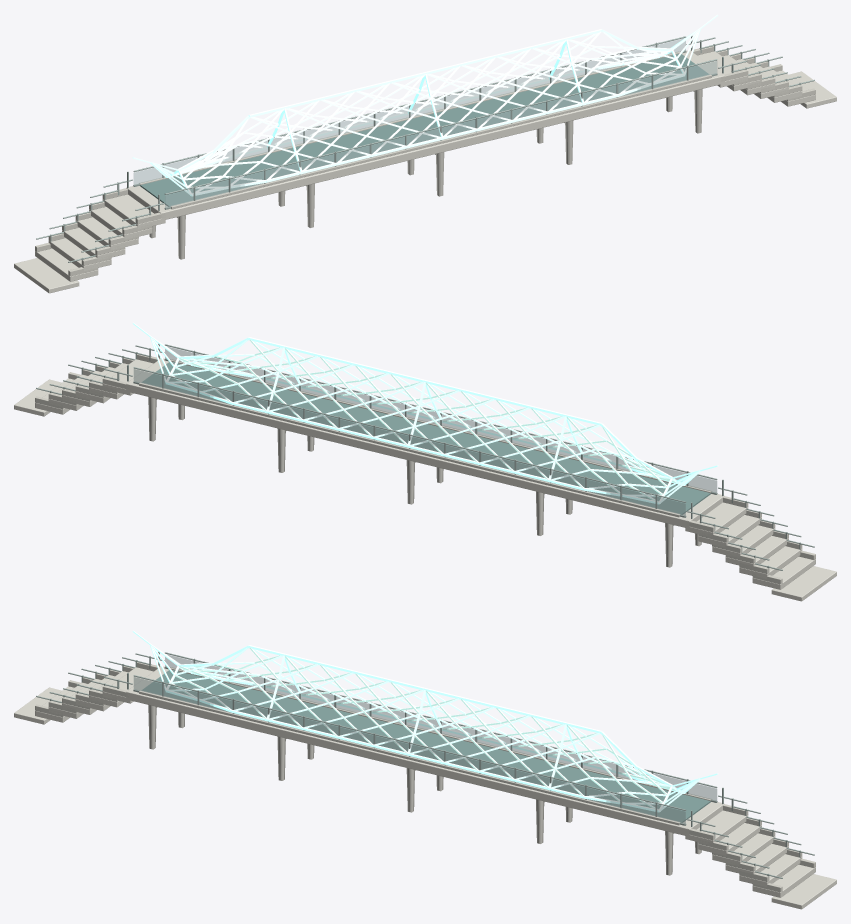
Rendered from LM_ENV_Saloma.glb.
3 views of the same model, one above another, from view 1: azimuth 30°, elevation 25°; view 2: azimuth 150°, elevation 25°; view 3: azimuth 330°, elevation 25° (orthographic).
Visible parts, largest first — view 1: saloma | Bridge concrete, saloma | Canopy lattice, saloma | Walkway surface, saloma | Balustrade glass, saloma | Deck kerb, saloma | Canopy chord, saloma | Handrail steel, saloma | Pier concrete; view 2: saloma | Bridge concrete, saloma | Canopy lattice, saloma | Walkway surface, saloma | Balustrade glass, saloma | Deck kerb, saloma | Canopy chord, saloma | Handrail steel, saloma | Pier concrete; view 3: saloma | Bridge concrete, saloma | Canopy lattice, saloma | Walkway surface, saloma | Balustrade glass, saloma | Deck kerb, saloma | Canopy chord, saloma | Handrail steel, saloma | Pier concrete.
Boxes of the visible parts, x1,y1,x2,y2 form: saloma | Bridge concrete: (14, 50, 836, 293); saloma | Canopy lattice: (172, 31, 682, 193); saloma | Walkway surface: (140, 54, 709, 206); saloma | Balustrade glass: (133, 38, 717, 207); saloma | Deck kerb: (35, 46, 815, 276); saloma | Canopy chord: (132, 14, 718, 196); saloma | Handrail steel: (36, 36, 814, 262); saloma | Pier concrete: (149, 89, 702, 259); saloma | Bridge concrete: (14, 358, 836, 601); saloma | Canopy lattice: (168, 339, 678, 501); saloma | Walkway surface: (141, 362, 710, 514); saloma | Balustrade glass: (133, 346, 717, 515); saloma | Deck kerb: (35, 354, 815, 584); saloma | Canopy chord: (132, 322, 718, 504); saloma | Handrail steel: (36, 344, 814, 570); saloma | Pier concrete: (148, 397, 701, 567); saloma | Bridge concrete: (14, 666, 836, 909); saloma | Canopy lattice: (168, 647, 678, 809); saloma | Walkway surface: (141, 670, 710, 822); saloma | Balustrade glass: (133, 654, 717, 823); saloma | Deck kerb: (35, 662, 815, 892); saloma | Canopy chord: (132, 630, 718, 812); saloma | Handrail steel: (36, 652, 814, 878); saloma | Pier concrete: (148, 705, 701, 875).
Size of the model in its own units: 67.1 by 9.14 by 5.2.
